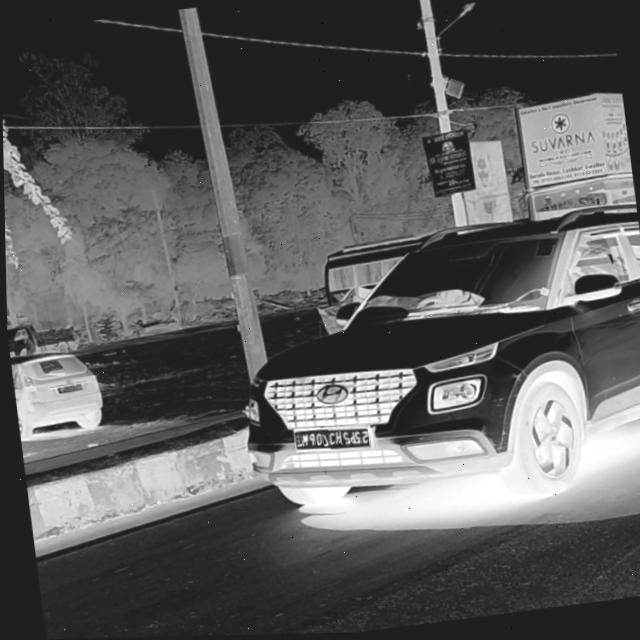0: (313, 433, 320, 448)
1: (346, 432, 353, 447)
5: (359, 430, 367, 446), (339, 432, 347, 447), (353, 431, 360, 446)
7: (320, 433, 326, 448)
C: (326, 432, 333, 447)
H: (333, 432, 340, 447)
IND: (294, 433, 301, 446)
Indian_registered: (292, 430, 368, 452)
M: (299, 433, 307, 448)
P: (306, 433, 314, 449)
